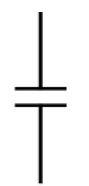Capacitor: (11, 67, 78, 121)
